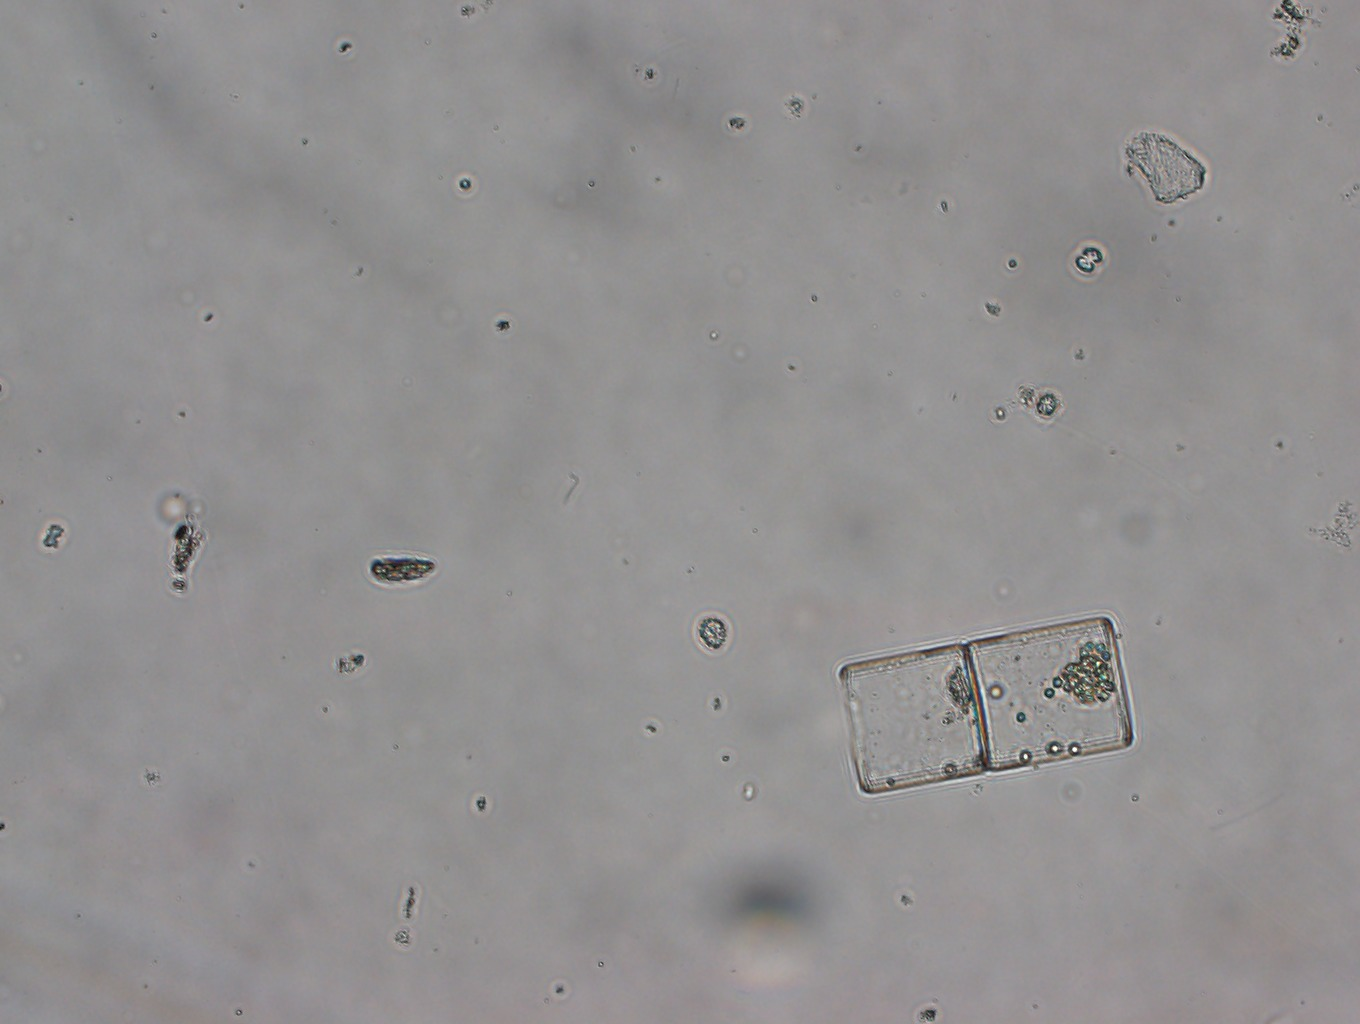guinardia flaccida: (824, 611, 1155, 801)
